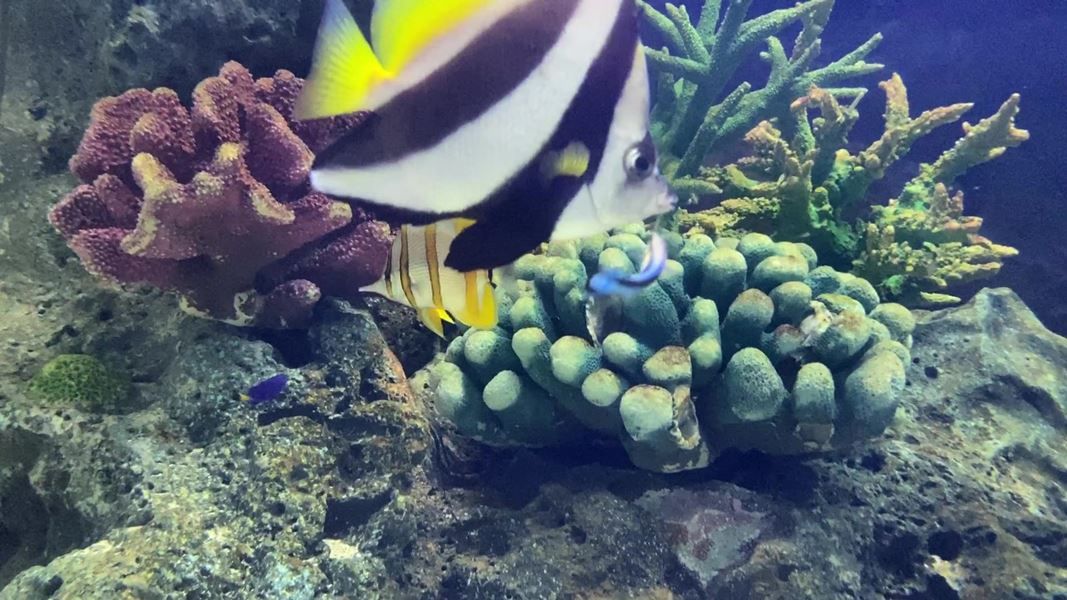Bluesteak cleaner wrasse: (583, 226, 678, 303)
